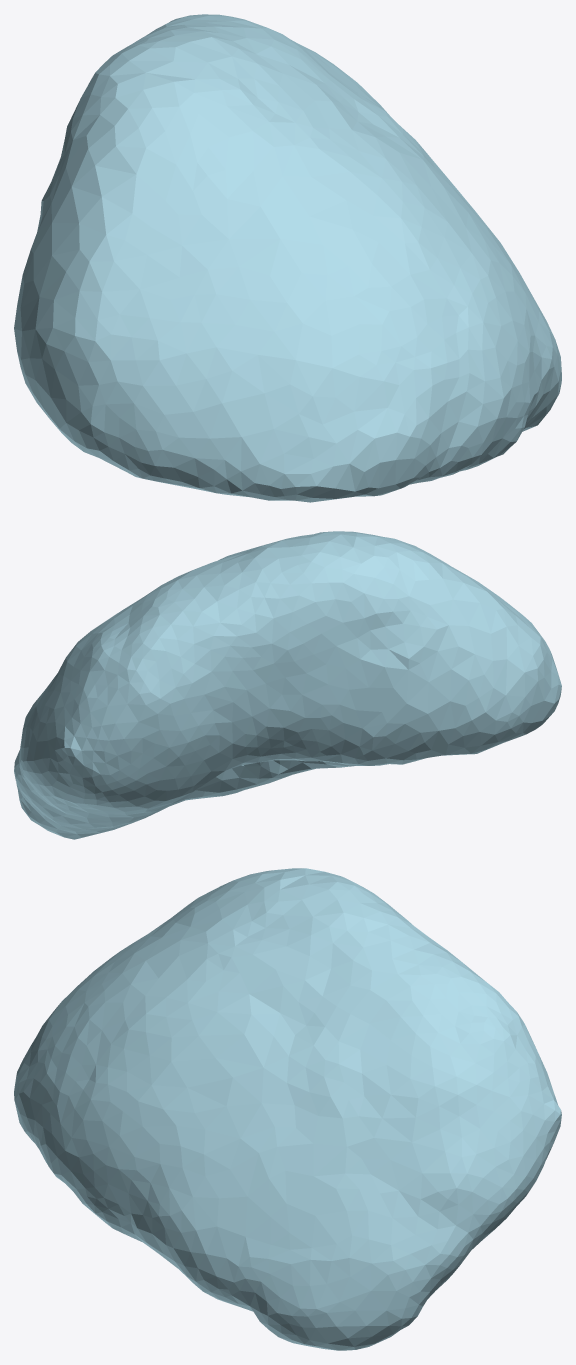
The model's file is spleen.obj.
The picture shows the model from 3 angles, top to bottom: view 1: azimuth 30°, elevation 25°; view 2: azimuth 150°, elevation 25°; view 3: azimuth 270°, elevation 25°; orthographic projection. The views are drawn at different scales.
Parts seen in each view (by area): view 1: grp1; view 2: grp1; view 3: grp1.
Boxes of the visible parts, left/top/right/bottom form: grp1: left=14, top=14, right=561, bottom=502; grp1: left=14, top=531, right=561, bottom=839; grp1: left=14, top=868, right=561, bottom=1350.
Size of the model in its own units: 91.88 by 68.17 by 98.5.
